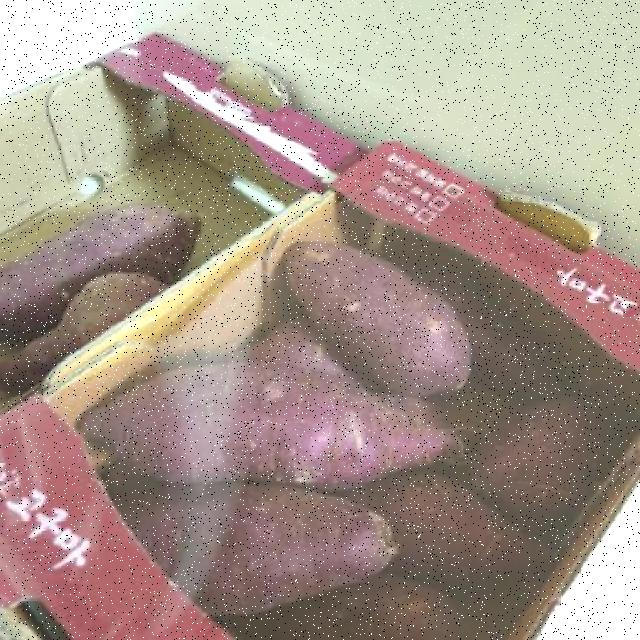Sweet Potato: (0, 138, 639, 640)
